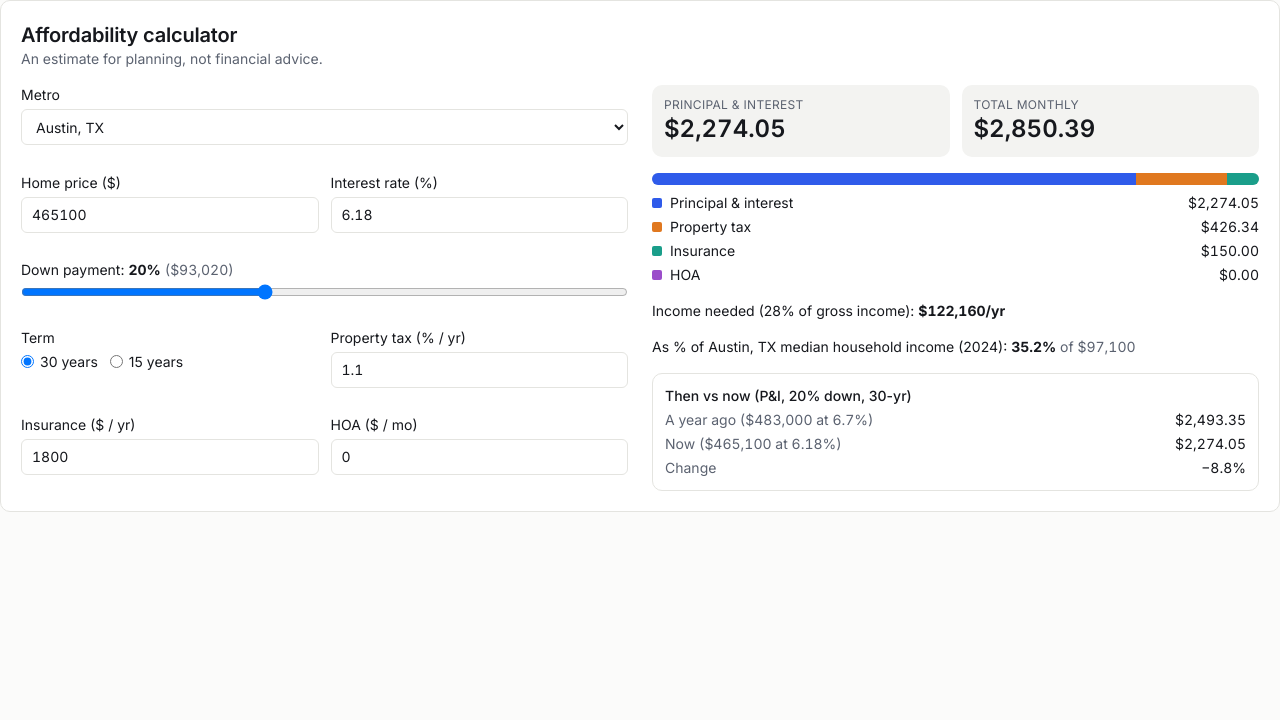
Test case: AffordabilityCalc › defaults reproduce the agent payment; inputs → outputs
Check: the text with test id "calc-pi" reads "$2,274.05", box [664,114,786,143]
Replace the text in the number field labelled "Home price ($)" with "500000" at (170, 215), box [21,197,318,233]
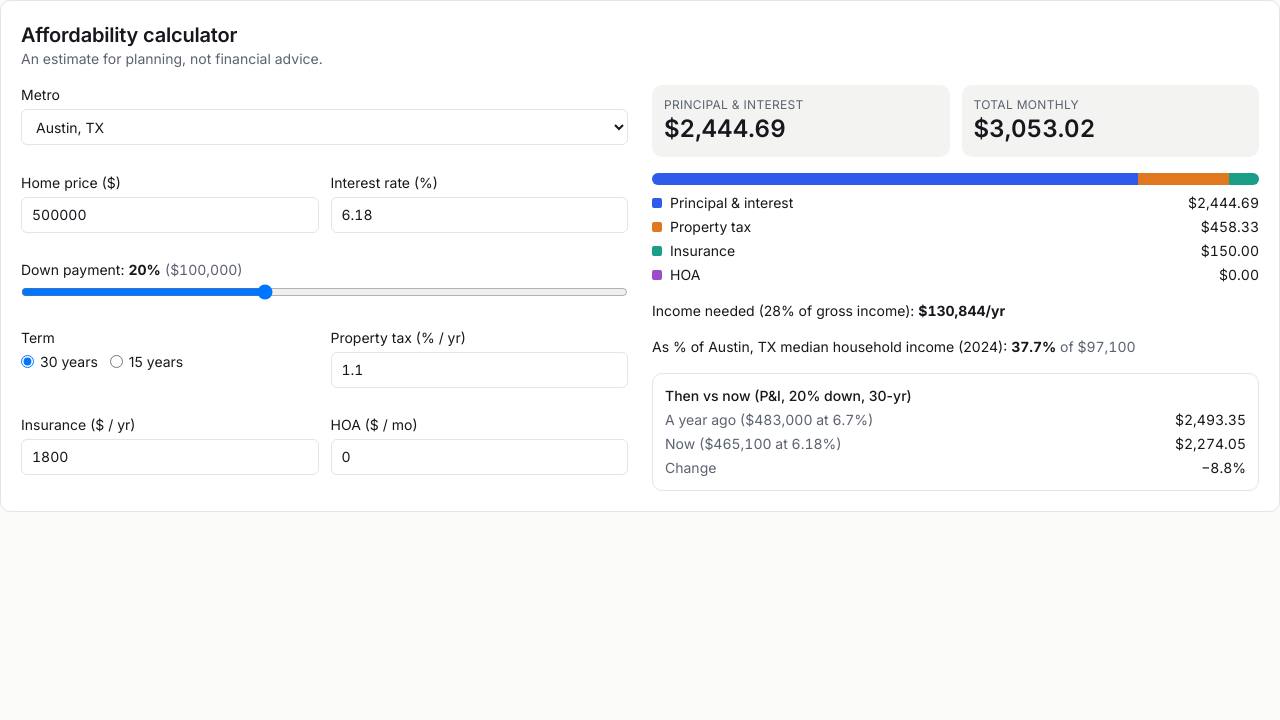
Replace the text in the number field labelled "Interest rate (%)" with "6.5" at (479, 215), box [330,197,628,233]
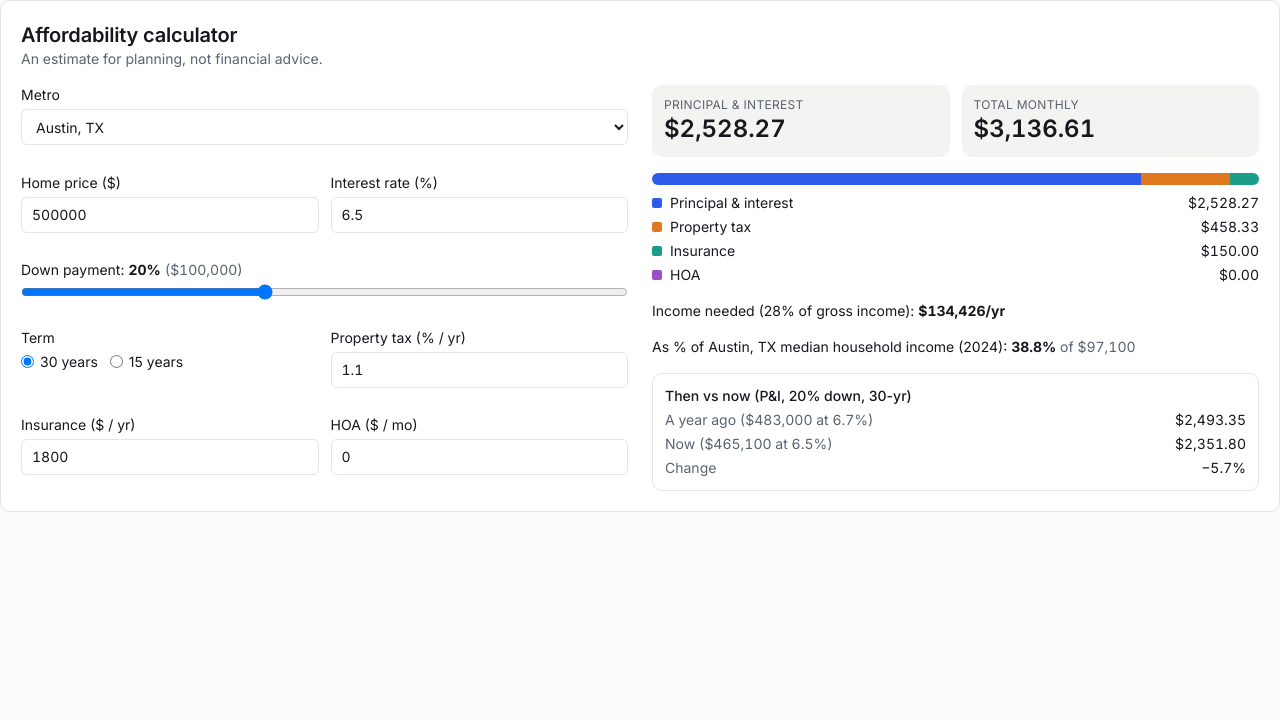
Check: the text with test id "calc-pi" reads "$2,528.27", box [664,114,786,143]
Click the radio button labelled "15 years" at (116, 362), box [110,355,123,368]
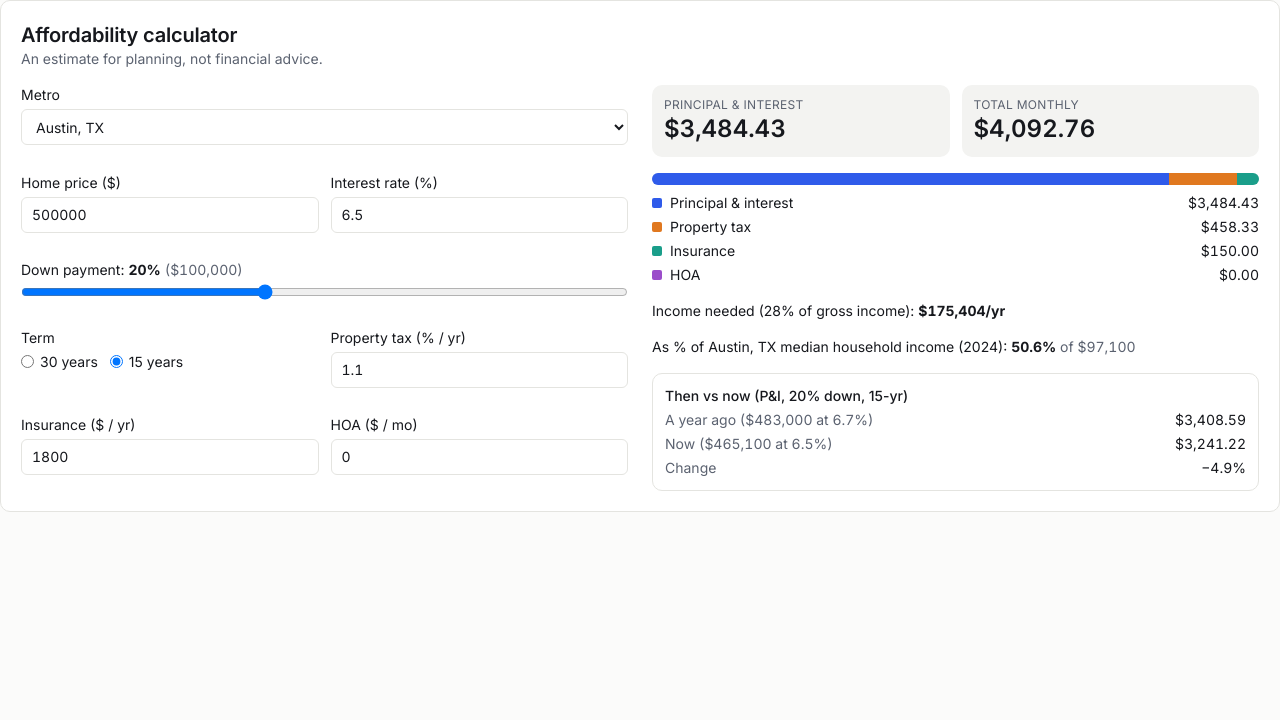
Check: the text with test id "calc-income" reads "$175,404/yr", box [918,302,1005,319]
Check: the text with test id "calc-pi" no longer shows "$2,528.27"
